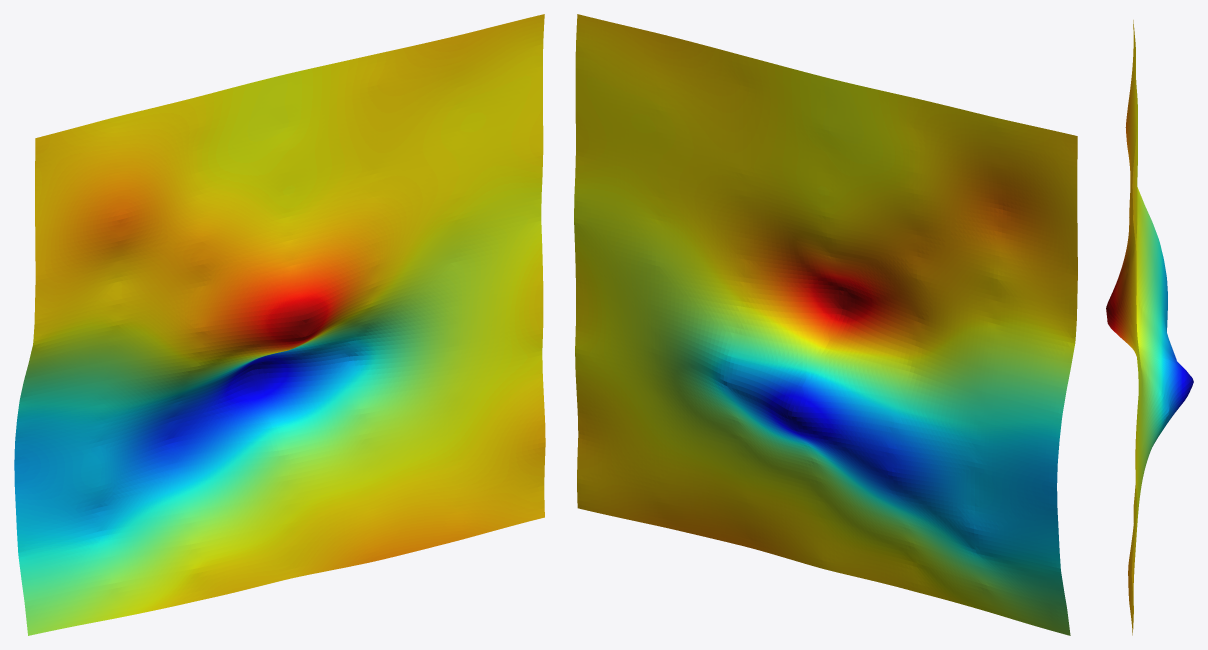
Rendered from pvgrid.glb.
3 renders of one model, left to right at view 1: azimuth 30°, elevation 25°; view 2: azimuth 150°, elevation 25°; view 3: azimuth 270°, elevation 25°, orthographic. The views are drawn at different scales.
Visible parts, largest first — view 1: Renderer Node; view 2: Renderer Node; view 3: Renderer Node.
Part boxes in pixels (x1=…): Renderer Node: x1=14, y1=14, x2=545, y2=635; Renderer Node: x1=574, y1=14, x2=1077, y2=635; Renderer Node: x1=1106, y1=20, x2=1193, y2=635.
Size of the model in its own units: 2404 by 2270 by 434.
Materials: 1 (1 with a texture image).
